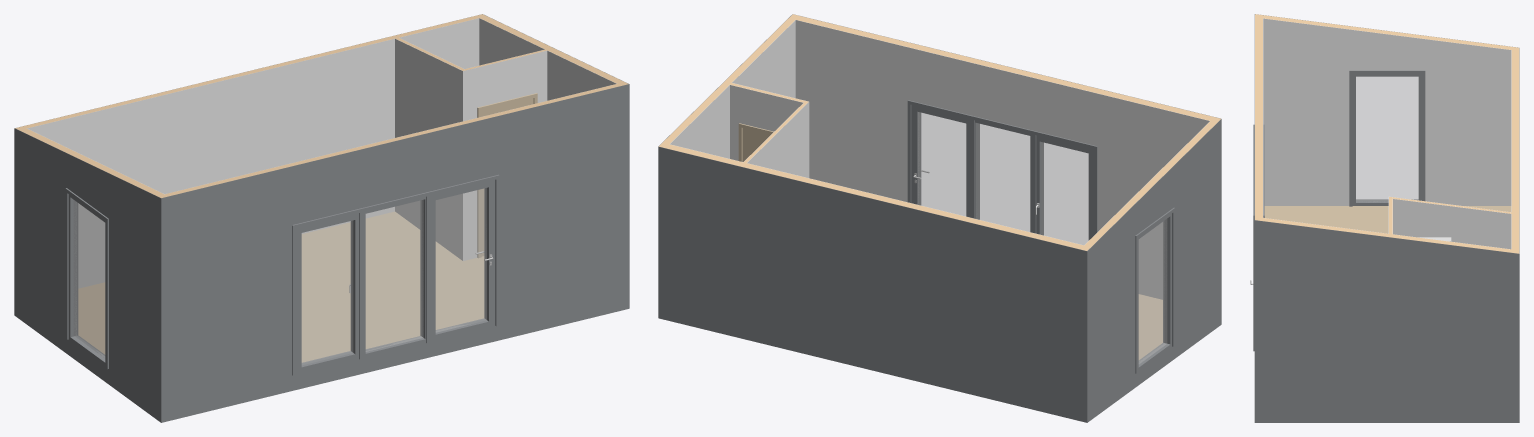
The model's file is sandradarguziene@gmail.fbx.
3 views of the same model, side by side, from view 1: azimuth 30°, elevation 25°; view 2: azimuth 150°, elevation 25°; view 3: azimuth 270°, elevation 25° (orthographic). The views are drawn at different scales.
Visible parts, largest first — view 1: IfcWall/Part:2319977, IfcWall/Part:2397154, IfcWall/Part:2368366, IfcSlab/Part:2319985, IfcDoor/Durys išorinės:1000x2100x120 (kairinės):2439432, IfcWindow/Langai (Akrusta):1000x2100x120 (dešininis):2632484, IfcWindow/Langai (Akrusta):1000x2100x120:2631983, IfcWall/Part:2584015, IfcWindow/Langai (Akrusta):1000x2100x120:2623467, IfcWall/Part:2584018, IfcWall/Part:2397151, IfcWall/Part:2397156 (+4 smaller); view 2: IfcWall/Part:2397155, IfcWall/Part:2319976, IfcWall/Part:2368366, IfcDoor/Durys išorinės:1000x2100x120 (kairinės):2439432, IfcWindow/Langai (Akrusta):1000x2100x120 (dešininis):2632484, IfcWindow/Langai (Akrusta):1000x2100x120:2631983, IfcWindow/Langai (Akrusta):1000x2100x120:2623467, IfcWall/Part:2397151, IfcWall/Part:2584019, IfcWall/Part:2584015, IfcWall/Part:2397156, IfcWall/Part:2319978 (+4 smaller); view 3: IfcWall/Part:2397152, IfcWall/Part:2368365, IfcWindow/Langai (Akrusta):1000x2100x120:2623467, IfcWall/Part:2584016, IfcSlab/Part:2319985, IfcWall/Part:2397156, IfcWall/Part:2319978, IfcWall/Part:2397153, IfcWall/Part:2368367, IfcDoor/Durys išorinės:1000x2100x120 (kairinės):2439432, IfcWall/Part:2397155, IfcWall/Part:2584017.
Part boxes in pixels (bbox=[...]): IfcWall/Part:2319977: bbox=[161, 84, 629, 422]; IfcWall/Part:2397154: bbox=[27, 18, 479, 288]; IfcWall/Part:2368366: bbox=[14, 128, 160, 422]; IfcSlab/Part:2319985: bbox=[78, 211, 484, 362]; IfcDoor/Durys išorinės:1000x2100x120 (kairinės):2439432: bbox=[420, 174, 499, 343]; IfcWindow/Langai (Akrusta):1000x2100x120 (dešininis):2632484: bbox=[292, 207, 365, 375]; IfcWindow/Langai (Akrusta):1000x2100x120:2631983: bbox=[359, 191, 432, 359]; IfcWall/Part:2584015: bbox=[395, 38, 463, 260]; IfcWindow/Langai (Akrusta):1000x2100x120:2623467: bbox=[65, 188, 108, 369]; IfcWall/Part:2584018: bbox=[463, 50, 547, 260]; IfcWall/Part:2397151: bbox=[479, 18, 616, 100]; IfcWall/Part:2397156: bbox=[15, 14, 486, 130]; IfcWall/Part:2397155: bbox=[658, 146, 1087, 422]; IfcWall/Part:2319976: bbox=[795, 20, 1209, 299]; IfcWall/Part:2368366: bbox=[1087, 119, 1221, 422]; IfcDoor/Durys išorinės:1000x2100x120 (kairinės):2439432: bbox=[907, 100, 979, 219]; IfcWindow/Langai (Akrusta):1000x2100x120 (dešininis):2632484: bbox=[1030, 130, 1097, 244]; IfcWindow/Langai (Akrusta):1000x2100x120:2631983: bbox=[969, 115, 1036, 233]; IfcWindow/Langai (Akrusta):1000x2100x120:2623467: bbox=[1135, 207, 1174, 373]; IfcWall/Part:2397151: bbox=[670, 20, 795, 158]; IfcWall/Part:2584019: bbox=[730, 85, 803, 160]; IfcWall/Part:2584015: bbox=[747, 102, 809, 177]; IfcWall/Part:2397156: bbox=[659, 142, 1090, 250]; IfcWall/Part:2319978: bbox=[796, 16, 1220, 122]; IfcWall/Part:2397152: bbox=[1254, 220, 1519, 422]; IfcWall/Part:2368365: bbox=[1263, 18, 1511, 205]; IfcWindow/Langai (Akrusta):1000x2100x120:2623467: bbox=[1349, 70, 1425, 206]; IfcWall/Part:2584016: bbox=[1393, 199, 1511, 249]; IfcSlab/Part:2319985: bbox=[1264, 206, 1511, 233]; IfcWall/Part:2397156: bbox=[1511, 47, 1519, 253]; IfcWall/Part:2319978: bbox=[1255, 14, 1262, 217]; IfcWall/Part:2397153: bbox=[1255, 217, 1511, 252]; IfcWall/Part:2368367: bbox=[1263, 15, 1511, 49]; IfcDoor/Durys išorinės:1000x2100x120 (kairinės):2439432: bbox=[1253, 183, 1264, 351]; IfcWall/Part:2397155: bbox=[1519, 48, 1519, 422]; IfcWall/Part:2584017: bbox=[1389, 197, 1511, 213].
Size of the model in its own units: 702 by 321 by 387.
